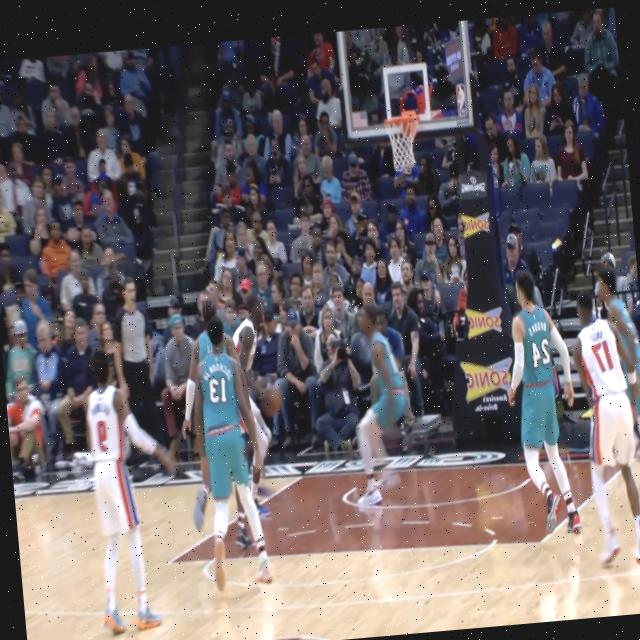no foul: (193, 301, 278, 614), (228, 288, 291, 530)
